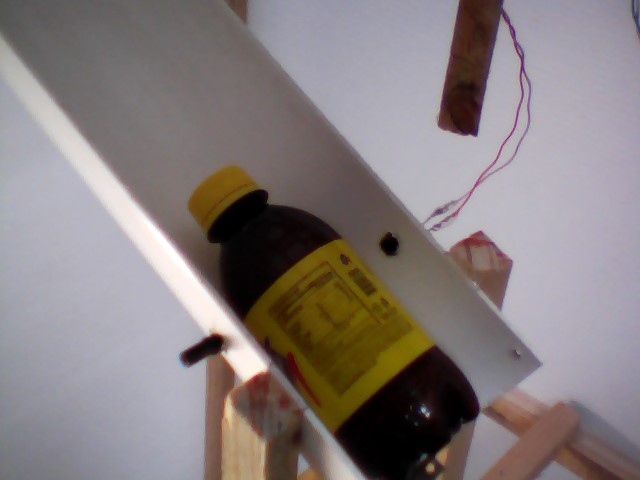plastico: (179, 164, 483, 480)
